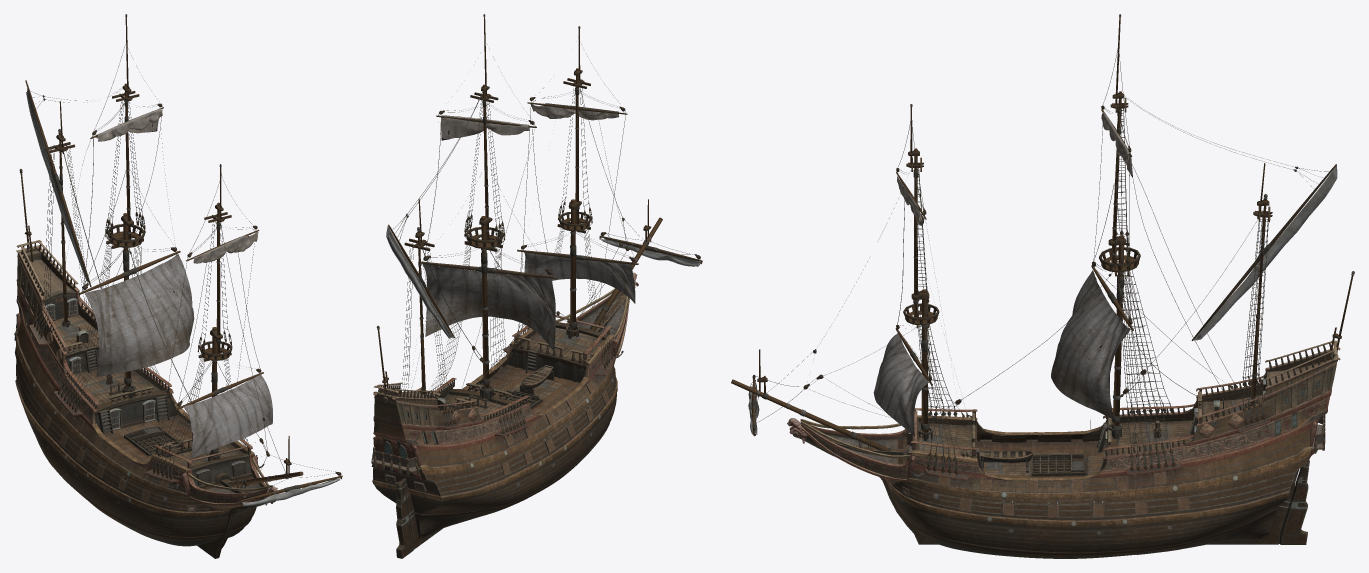
The model's file is dutch_ship_large_02.gltf.
The picture shows the model from 3 angles, left to right: view 1: azimuth 30°, elevation 25°; view 2: azimuth 150°, elevation 25°; view 3: azimuth 270°, elevation 25°; orthographic projection. The views are drawn at different scales.
Visible parts, largest first — view 1: dutch_ship_large_02_hull, dutch_ship_large_02_rigging, dutch_ship_large_02_sails; view 2: dutch_ship_large_02_hull, dutch_ship_large_02_rigging, dutch_ship_large_02_sails; view 3: dutch_ship_large_02_hull, dutch_ship_large_02_rigging, dutch_ship_large_02_sails.
Part boxes in pixels (x1,y1,x2,y2): dutch_ship_large_02_hull: (14, 240, 277, 558); dutch_ship_large_02_rigging: (19, 14, 342, 506); dutch_ship_large_02_sails: (85, 108, 272, 458); dutch_ship_large_02_hull: (371, 272, 638, 558); dutch_ship_large_02_rigging: (376, 14, 702, 445); dutch_ship_large_02_sails: (422, 103, 635, 350); dutch_ship_large_02_hull: (787, 340, 1340, 558); dutch_ship_large_02_rigging: (731, 14, 1354, 483); dutch_ship_large_02_sails: (873, 112, 1132, 436).
Size of the model in its own units: 8.54 by 32.08 by 34.25.
Materials: 3 (3 with a texture image).
